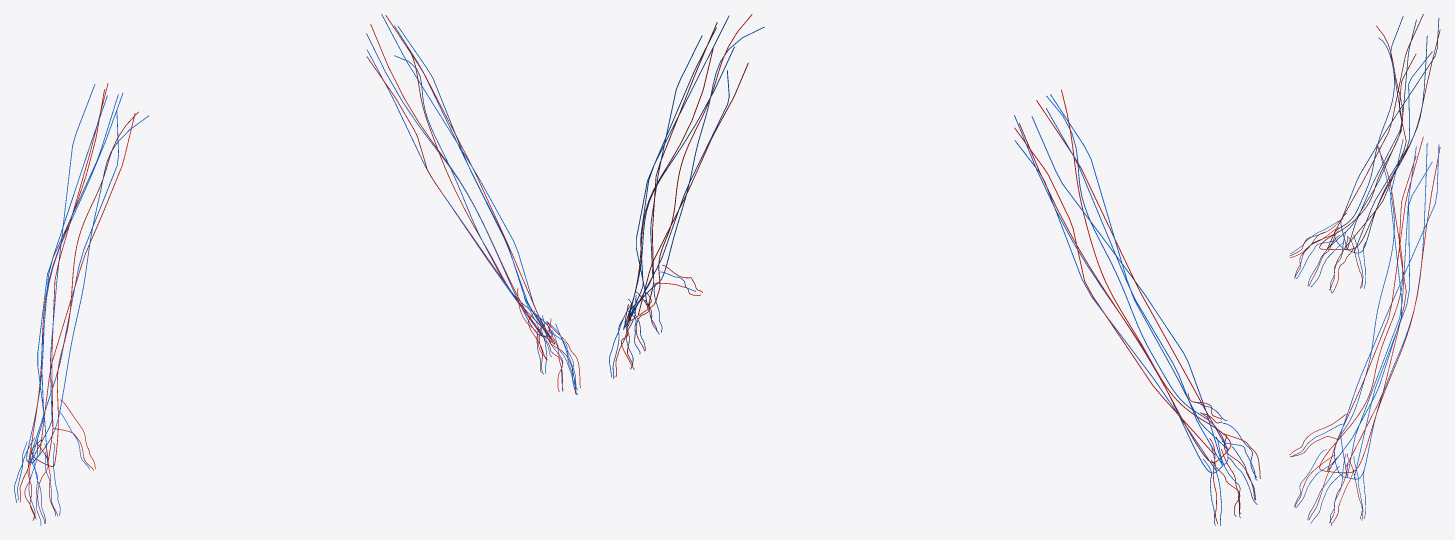
File: nerfs.glb
3 views of the same model, side by side, from view 1: azimuth 30°, elevation 25°; view 2: azimuth 150°, elevation 25°; view 3: azimuth 270°, elevation 25° (orthographic). The views are drawn at different scales.
Visible parts, largest first — view 1: NurbsPath.002; view 2: NurbsPath.002; view 3: NurbsPath.002.
Boxes of the visible parts, x1,y1,x2,y2 form: NurbsPath.002: [14, 14, 580, 525]; NurbsPath.002: [609, 14, 1260, 525]; NurbsPath.002: [1289, 14, 1440, 525].
Size of the model in its own units: 0.8667 by 0.5697 by 0.2335.
